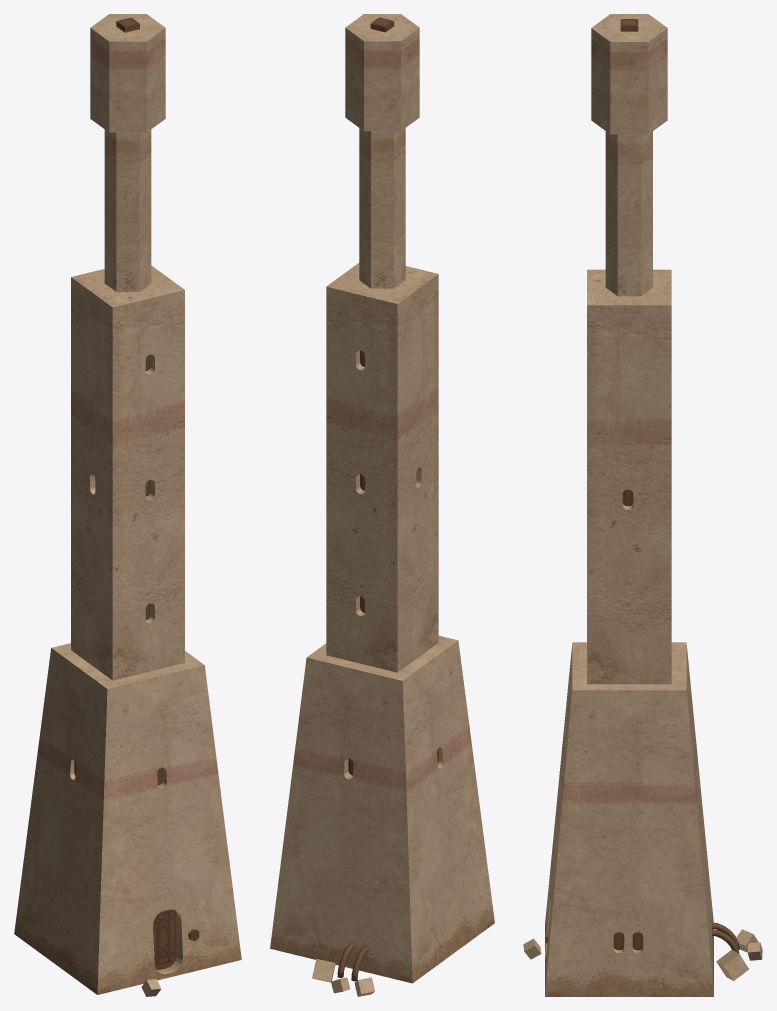
The model's file is Edificio 5.fbx.
3 renders of one model, left to right at view 1: azimuth 30°, elevation 25°; view 2: azimuth 150°, elevation 25°; view 3: azimuth 270°, elevation 25°, orthographic. The views are drawn at different scales.
Parts seen in each view (by area): view 1: building22; view 2: building22; view 3: building22.
Part boxes in pixels (x1,y1,x2,y2): building22: (14,14,241,996); building22: (270,14,494,996); building22: (523,14,762,996).
Bounding box in the file's own units: 574 × 3563 × 812.
